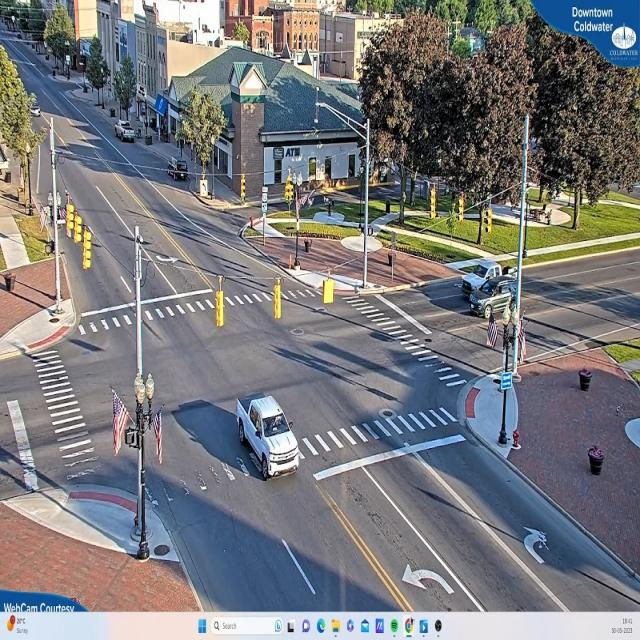car: (236, 394, 302, 482), (470, 274, 518, 320), (117, 121, 138, 143)
